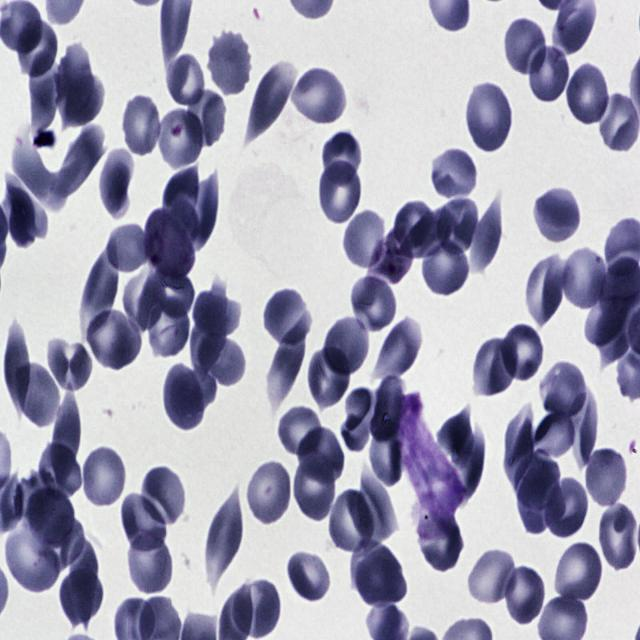red blood cell: (6, 521, 59, 592), (85, 308, 141, 373), (56, 125, 104, 200), (207, 491, 244, 584), (519, 463, 565, 535), (522, 252, 566, 327), (417, 504, 464, 574), (14, 364, 62, 432), (250, 62, 294, 136), (317, 158, 364, 227), (126, 532, 175, 597), (80, 444, 128, 510), (322, 315, 372, 378), (29, 482, 78, 546), (292, 455, 336, 525), (467, 83, 511, 153), (158, 108, 208, 169), (597, 501, 639, 573), (422, 233, 469, 297), (306, 344, 352, 409), (118, 492, 166, 554), (327, 489, 375, 551), (209, 31, 252, 100), (554, 540, 602, 601), (145, 295, 190, 360), (357, 467, 397, 540), (293, 68, 345, 124), (566, 63, 610, 128), (164, 366, 208, 431), (45, 337, 96, 393), (562, 248, 608, 310), (586, 294, 629, 360), (499, 321, 546, 381), (32, 54, 62, 148), (56, 44, 94, 118), (125, 266, 165, 335), (504, 404, 538, 485), (297, 424, 345, 481), (474, 335, 516, 400), (234, 579, 280, 638), (264, 290, 312, 346), (528, 44, 571, 106), (466, 198, 502, 272), (542, 477, 587, 536), (533, 191, 582, 245), (504, 16, 546, 79), (430, 147, 479, 201), (598, 93, 640, 156), (539, 362, 588, 416), (248, 461, 290, 524), (38, 440, 82, 500), (186, 168, 218, 250), (352, 274, 397, 332), (61, 564, 103, 626), (84, 248, 120, 320), (502, 566, 545, 626), (14, 470, 54, 534), (468, 551, 517, 603), (51, 388, 82, 470), (377, 322, 423, 377), (366, 426, 406, 489), (70, 539, 98, 629), (278, 403, 322, 460), (514, 452, 560, 506), (269, 336, 306, 402), (102, 144, 134, 220), (196, 336, 244, 386), (285, 551, 331, 603), (17, 18, 57, 77), (356, 559, 407, 605), (394, 202, 438, 255), (142, 469, 184, 524), (194, 289, 241, 338), (344, 211, 384, 268), (150, 272, 197, 320), (343, 386, 377, 452), (586, 450, 626, 506), (43, 515, 86, 567), (123, 96, 160, 156), (371, 376, 403, 445), (438, 197, 478, 252), (187, 89, 225, 146), (166, 54, 206, 106), (572, 392, 598, 472), (174, 366, 216, 415), (60, 73, 101, 122), (322, 132, 362, 182), (106, 228, 150, 271), (535, 410, 575, 457), (165, 167, 198, 223), (440, 408, 470, 466)
ring: (144, 207, 196, 283), (370, 224, 414, 283)
